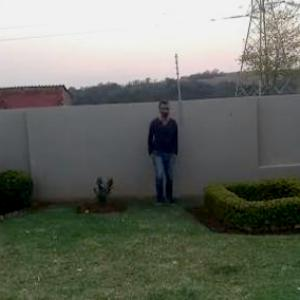follow: (144, 94, 180, 214)
